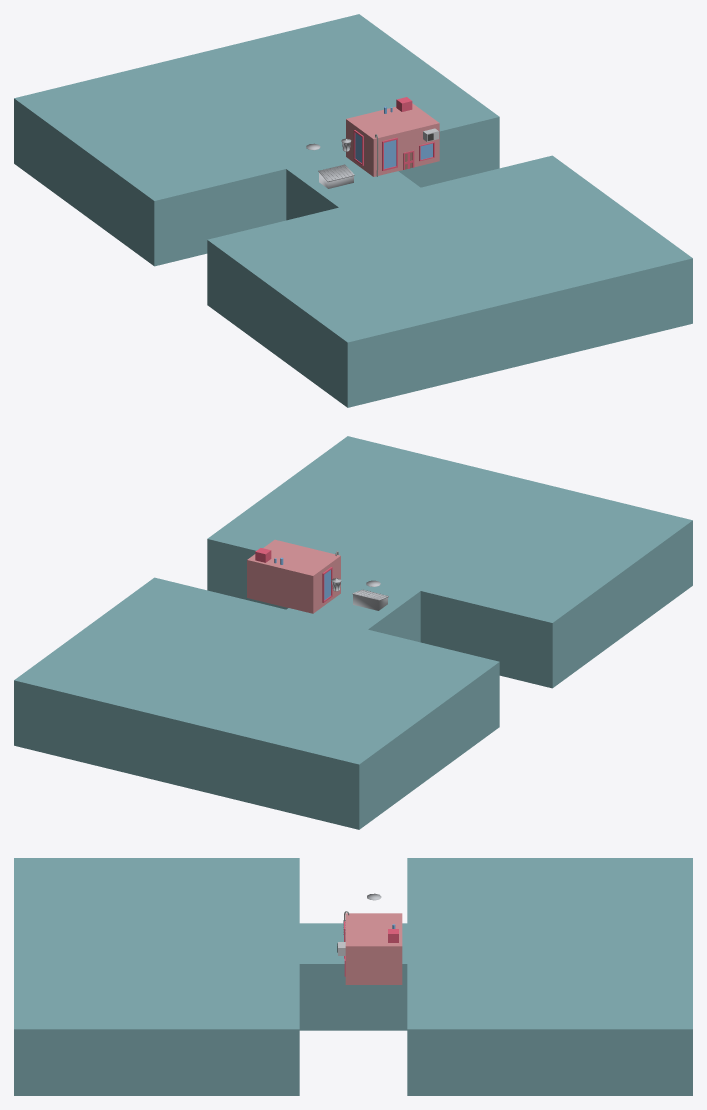
File: City.fbx
3 renders of one model, top to bottom at view 1: azimuth 30°, elevation 25°; view 2: azimuth 150°, elevation 25°; view 3: azimuth 270°, elevation 25°, orthographic.
Parts seen in each view (by area): view 1: Alley Base - Ground, Edificio, Trash Can 1; view 2: Alley Base - Ground, Edificio; view 3: Alley Base - Ground, Edificio.
Boxes of the visible parts, left/top/right/bottom form: Alley Base - Ground: left=14, top=14, right=692, bottom=407; Edificio: left=346, top=97, right=439, bottom=176; Trash Can 1: left=318, top=164, right=354, bottom=188; Alley Base - Ground: left=14, top=436, right=692, bottom=829; Edificio: left=247, top=539, right=340, bottom=613; Alley Base - Ground: left=14, top=858, right=692, bottom=1095; Edificio: left=337, top=913, right=402, bottom=984.
Bounding box in the file's own units: 12681 × 3924 × 21230.
